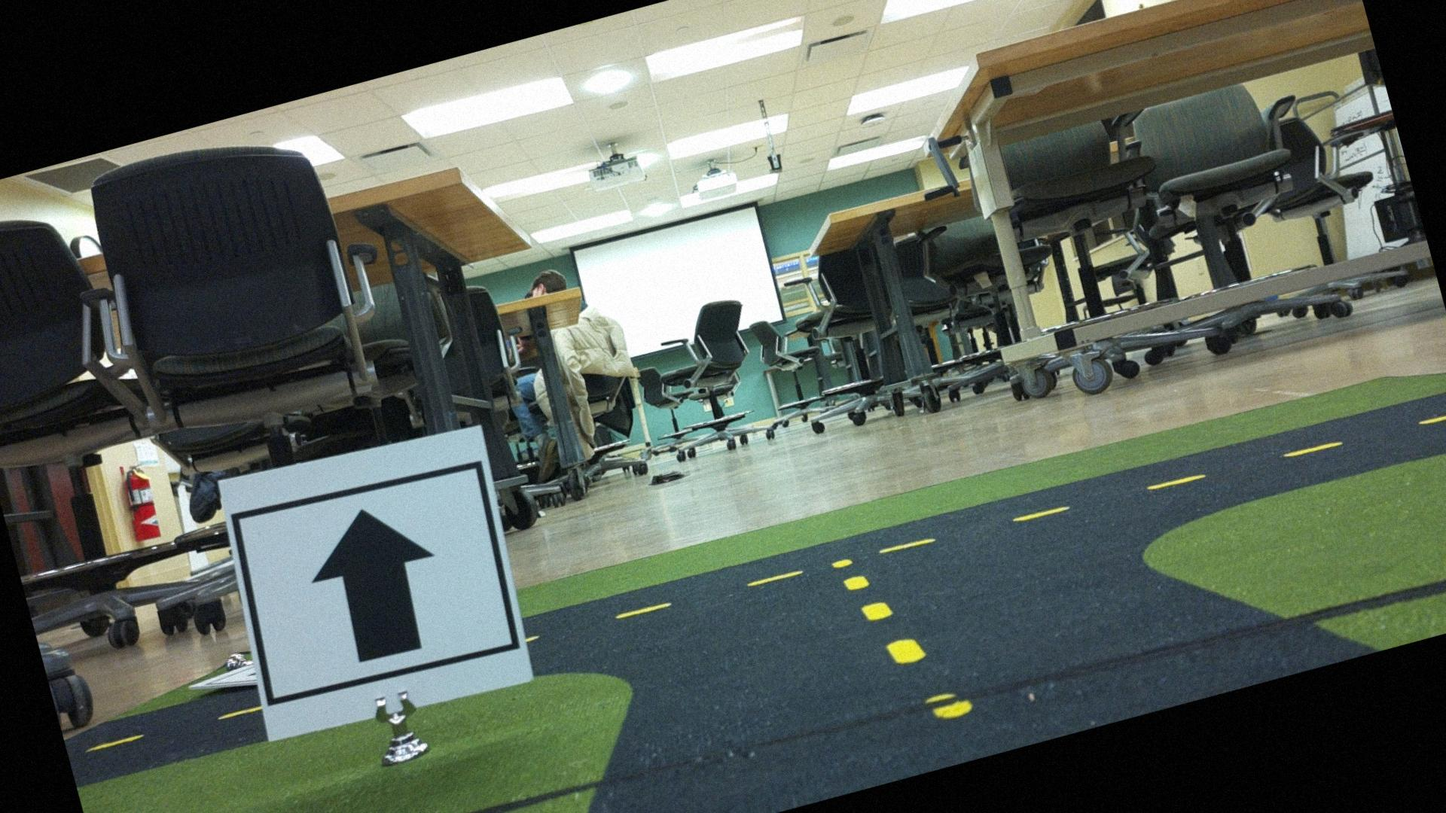gostraight: (225, 431, 529, 725)
yellowline: (1014, 391, 1445, 534), (834, 538, 964, 738), (616, 563, 802, 627)
